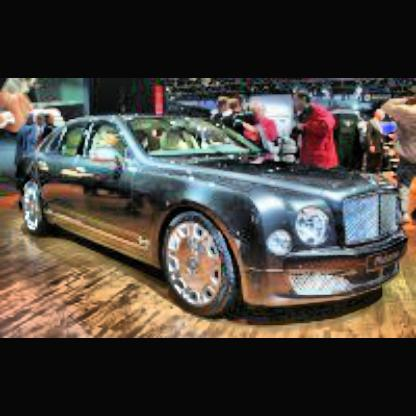Bentley Mulsanne Sedan 2011: (24, 115, 412, 320)
